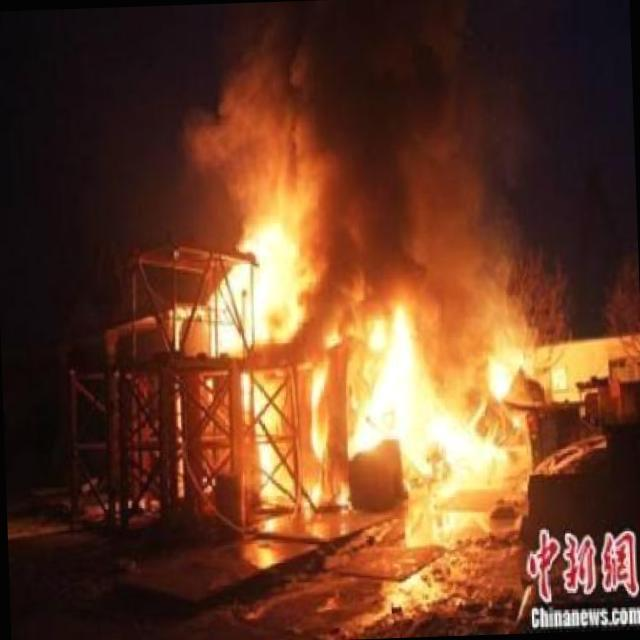Fire_Dangerous: (163, 93, 518, 508)
